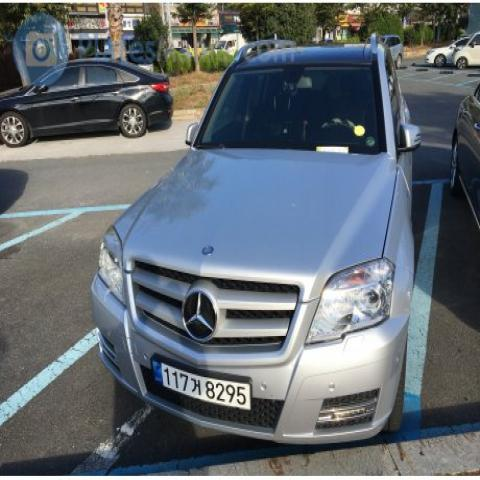LP: (143, 349, 265, 422)
